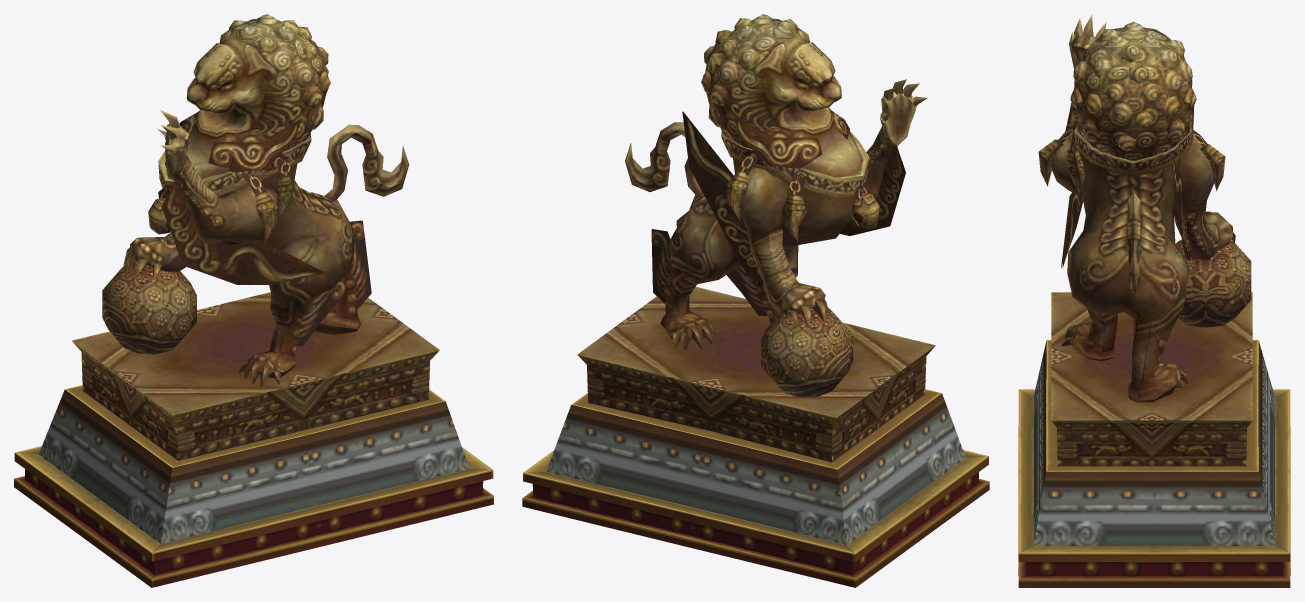
Rendered from WSD_Item_09.FBX.
3 renders of one model, left to right at view 1: azimuth 30°, elevation 25°; view 2: azimuth 150°, elevation 25°; view 3: azimuth 270°, elevation 25°, orthographic. The views are drawn at different scales.
Parts seen in each view (by area): view 1: WSD_Item_09; view 2: WSD_Item_09; view 3: WSD_Item_09.
Part boxes in pixels (<box>): WSD_Item_09: <box>14,14,493,587</box>; WSD_Item_09: <box>522,14,989,587</box>; WSD_Item_09: <box>1018,14,1290,587</box>.
Bounding box in the file's own units: 8.19 × 11 × 5.71.
